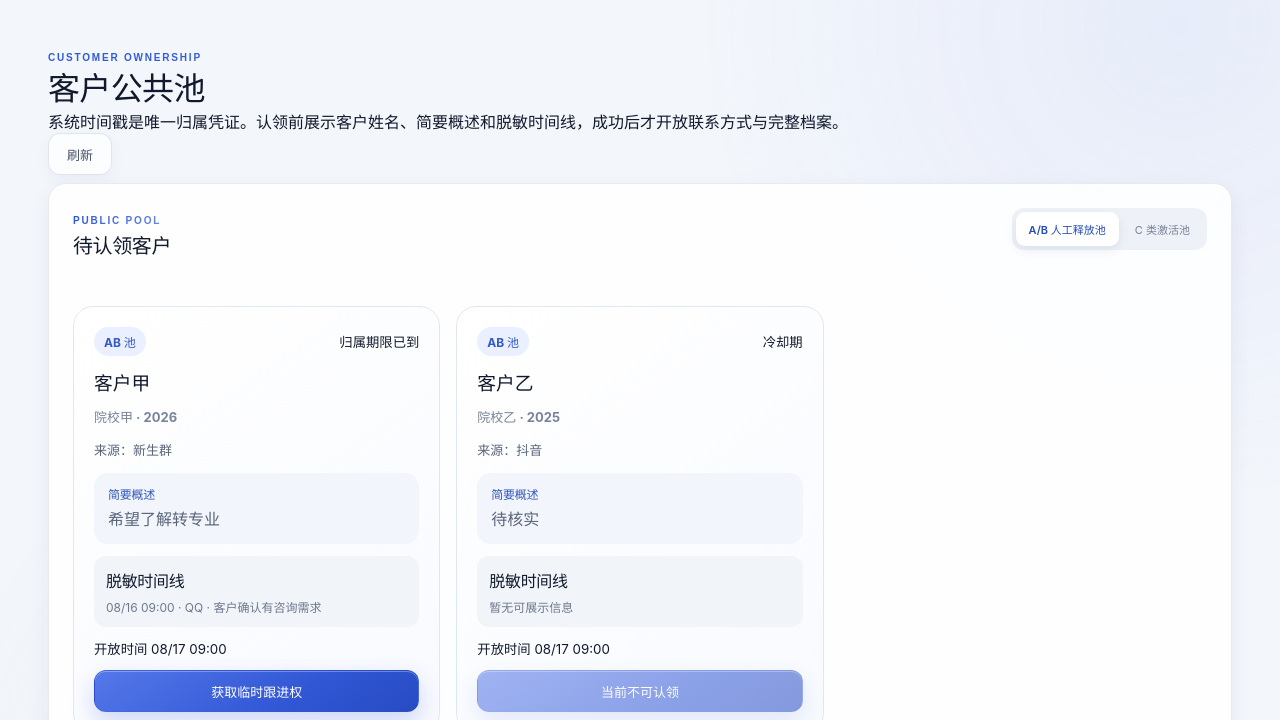
customer public pool › renders only masked context and sends an idempotent temporary claim
This screenshot has width=1280, height=720.
Expected: the button "当前不可认领" is disabled, [477,670,803,712]
Click the button "获取临时跟进权".
click(257, 691)  # box [94,670,419,712]
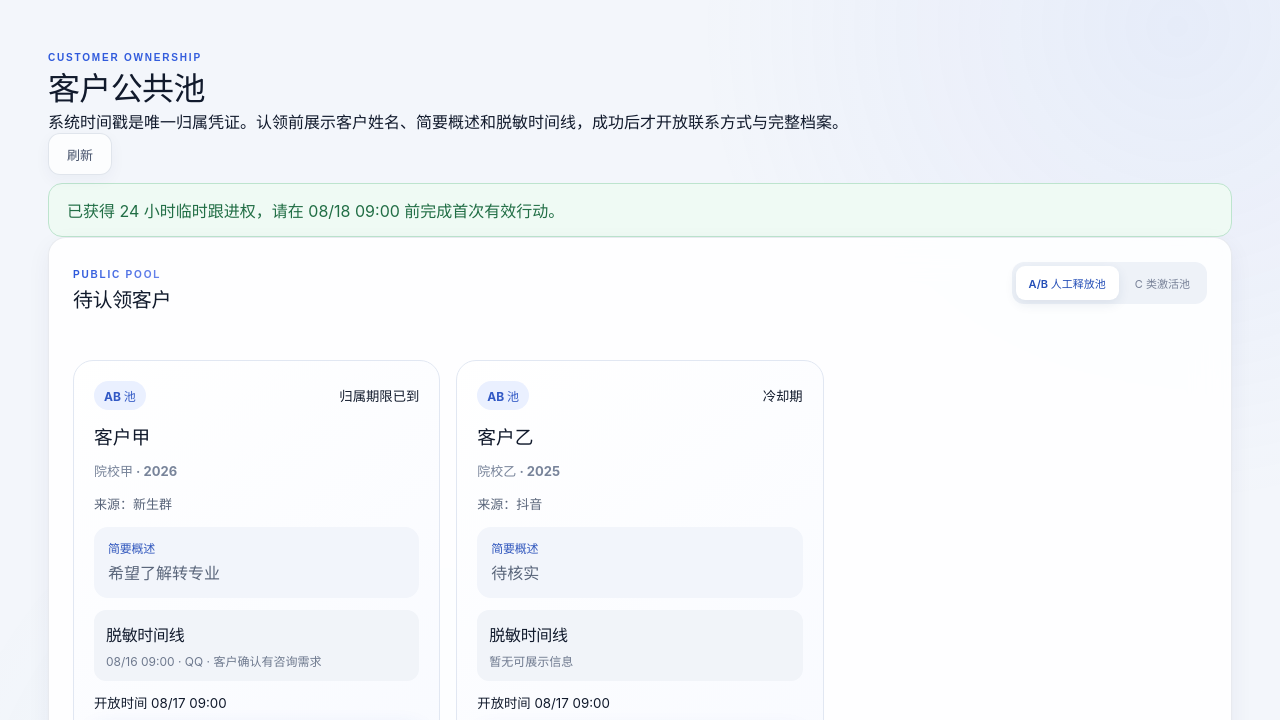
Expected: the text "已获得 24 小时临时跟进权" is shown, [67,201,564,221]
